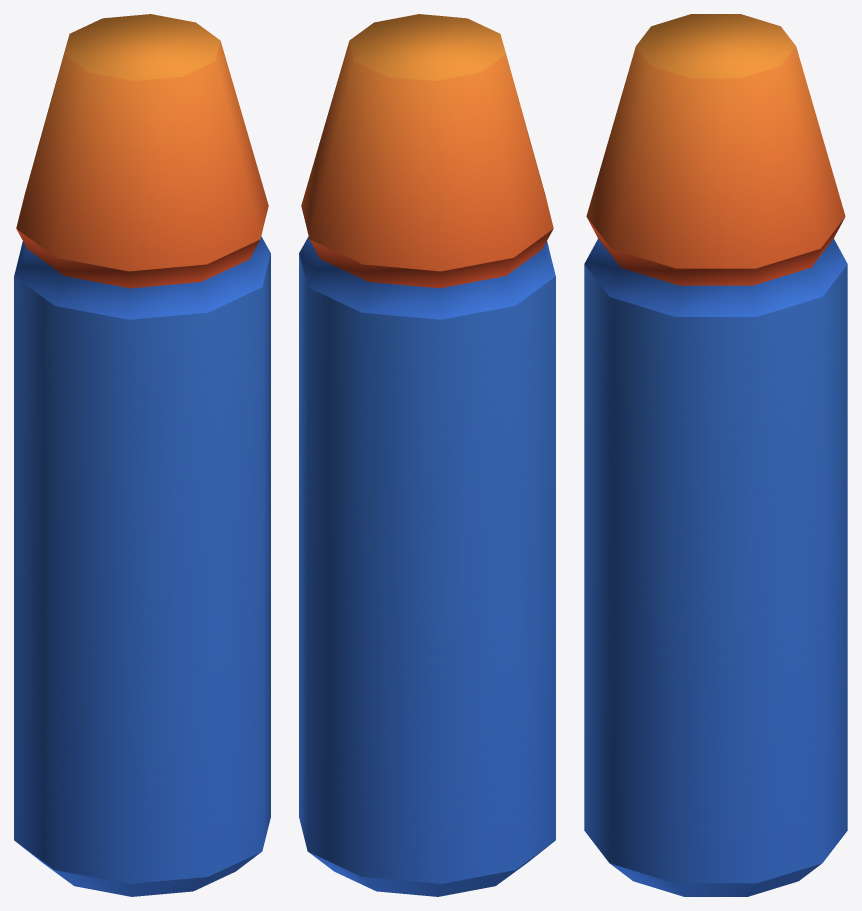
File: Bullet A.fbx
3 renders of one model, left to right at view 1: azimuth 30°, elevation 25°; view 2: azimuth 150°, elevation 25°; view 3: azimuth 270°, elevation 25°, orthographic.
Visible parts, largest first — view 1: Bullet A; view 2: Bullet A; view 3: Bullet A.
Boxes of the visible parts, bbox=[...] form: Bullet A: bbox=[14, 14, 270, 896]; Bullet A: bbox=[299, 14, 555, 896]; Bullet A: bbox=[584, 14, 847, 896].
Size of the model in its own units: 0.0549 by 0.1955 by 0.0577.
